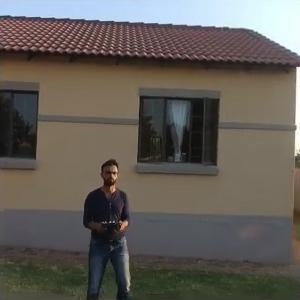follow: (77, 155, 132, 298)
